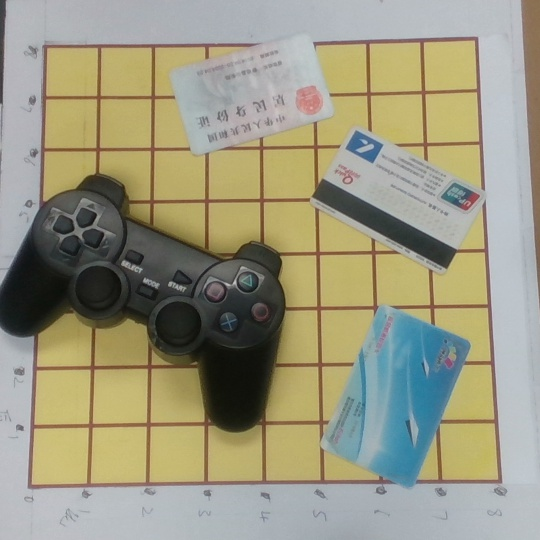card: (324, 304, 472, 491), (311, 126, 487, 273), (169, 31, 338, 154)
remote: (1, 174, 289, 436)
